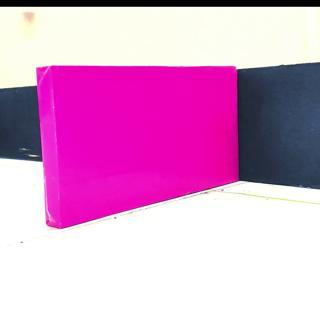xparking: (46, 69, 237, 215)
